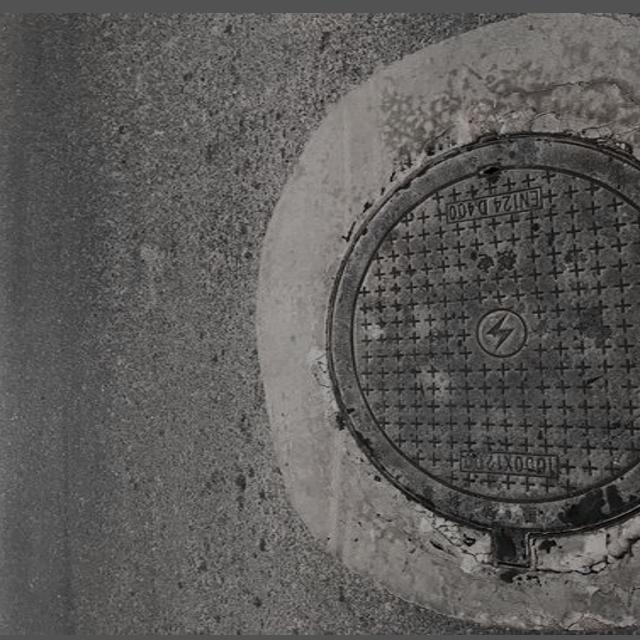circle: (259, 30, 640, 622)
